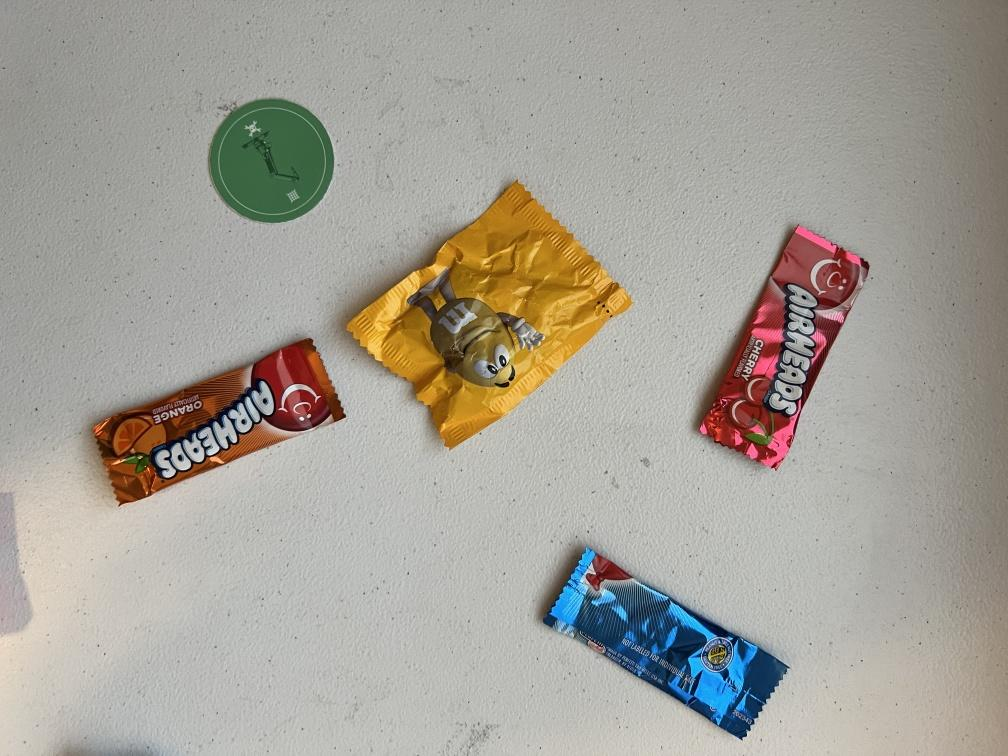MM_yellow: (343, 180, 625, 449)
airheads: (543, 548, 784, 737), (694, 223, 870, 470)
milky_way: (92, 340, 347, 506)
